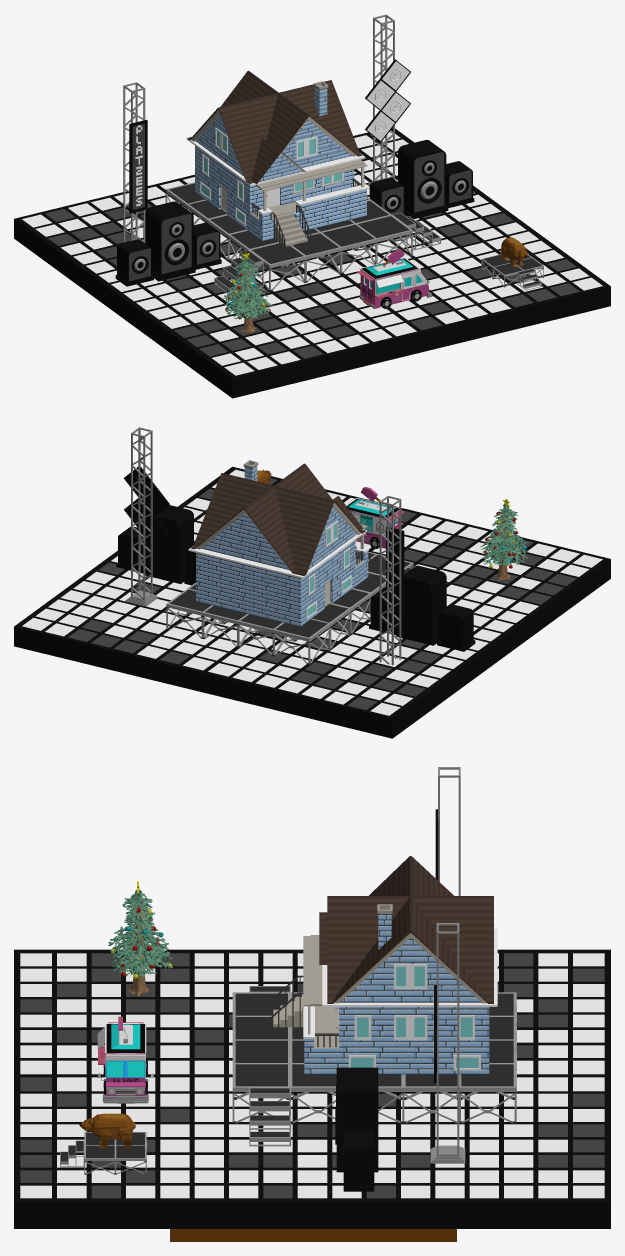
3 views of the same model, one above another, from view 1: azimuth 30°, elevation 25°; view 2: azimuth 150°, elevation 25°; view 3: azimuth 270°, elevation 25° (orthographic). The views are drawn at different scales.
Parts seen in each view (by area): view 1: Cube.008, Cube.547, VEHICLES_ICE_CREAM_TRUCK, OBJRANDOM_CHRISTMAS_TREE, ANIMAL_OSO; view 2: Cube.008, Cube.547, OBJRANDOM_CHRISTMAS_TREE, VEHICLES_ICE_CREAM_TRUCK; view 3: Cube.008, Cube.547, VEHICLES_ICE_CREAM_TRUCK, UNDERGROUND_ART_PIECE_VAN_GOGH, OBJRANDOM_CHRISTMAS_TREE, ANIMAL_OSO.
Part boxes in pixels (left/top/right/bottom): Cube.008: left=14, top=14, right=610, bottom=398; Cube.547: left=186, top=70, right=369, bottom=247; VEHICLES_ICE_CREAM_TRUCK: left=357, top=249, right=432, bottom=308; OBJRANDOM_CHRISTMAS_TREE: left=221, top=252, right=272, bottom=332; ANIMAL_OSO: left=501, top=237, right=528, bottom=267; Cube.008: left=14, top=427, right=610, bottom=738; Cube.547: left=188, top=460, right=370, bottom=626; OBJRANDOM_CHRISTMAS_TREE: left=480, top=499, right=528, bottom=580; VEHICLES_ICE_CREAM_TRUCK: left=346, top=487, right=404, bottom=548; Cube.008: left=14, top=767, right=610, bottom=1228; Cube.547: left=271, top=856, right=497, bottom=1074; VEHICLES_ICE_CREAM_TRUCK: left=97, top=1016, right=153, bottom=1103; UNDERGROUND_ART_PIECE_VAN_GOGH: left=170, top=1229, right=456, bottom=1241; OBJRANDOM_CHRISTMAS_TREE: left=108, top=881, right=172, bottom=995; ANIMAL_OSO: left=79, top=1113, right=135, bottom=1148.
Bounding box in the file's own units: 4000 × 2098 × 4000.
Materials: 46 (3 with a texture image).
